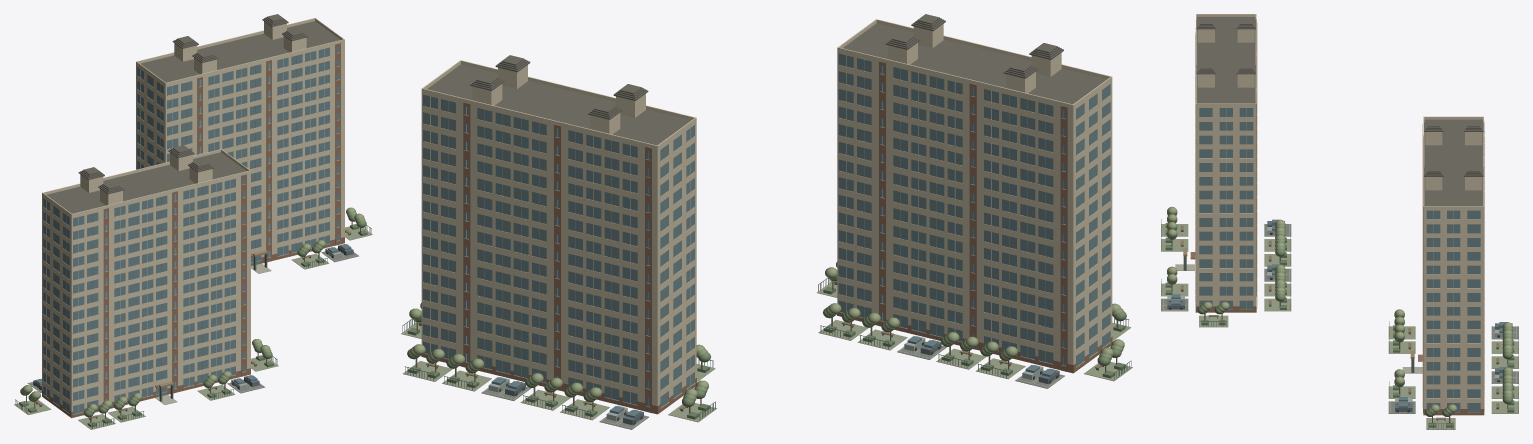
File: middle-1.glb
3 views of the same model, side by side, from view 1: azimuth 30°, elevation 25°; view 2: azimuth 150°, elevation 25°; view 3: azimuth 270°, elevation 25° (orthographic). The views are drawn at different scales.
Parts seen in each view (by area): view 1: korean-facade-surface-d5c9af, korean-facade-surface-728d91, korean-facade-parts-d5c9af, middle-1, korean-facade-parts-9b7860, korean-facade-parts-716e64, korean-facade-parts-9ba48a, korean-facade-parts-94a17c, korean-facade-parts-778b69, korean-facade-parts-718669, korean-facade-parts-889976, korean-facade-parts-627568 (+1 smaller); view 2: korean-facade-surface-d5c9af, korean-facade-surface-728d91, korean-facade-parts-d5c9af, middle-1, korean-facade-parts-9b7860, korean-facade-parts-9ba48a, korean-facade-parts-716e64, korean-facade-parts-94a17c, korean-facade-parts-718669, korean-facade-parts-778b69, korean-facade-parts-627568, korean-facade-parts-889976 (+2 smaller); view 3: korean-facade-surface-d5c9af, korean-facade-surface-728d91, middle-1, korean-facade-parts-d5c9af, korean-facade-parts-9ba48a, korean-facade-parts-94a17c, korean-facade-parts-716e64, korean-facade-parts-9b7860, korean-facade-parts-858b82, korean-facade-parts-889976, korean-facade-parts-718669, korean-facade-parts-778b69 (+5 smaller).
Part boxes in pixels (left/top/right/bottom): korean-facade-surface-d5c9af: left=42, top=42, right=344, bottom=411; korean-facade-surface-728d91: left=43, top=46, right=339, bottom=414; korean-facade-parts-d5c9af: left=42, top=18, right=344, bottom=414; middle-1: left=46, top=21, right=340, bottom=213; korean-facade-parts-9b7860: left=42, top=43, right=344, bottom=418; korean-facade-parts-716e64: left=78, top=14, right=308, bottom=194; korean-facade-parts-9ba48a: left=14, top=226, right=372, bottom=429; korean-facade-parts-94a17c: left=22, top=207, right=364, bottom=411; korean-facade-parts-778b69: left=20, top=215, right=366, bottom=417; korean-facade-parts-718669: left=19, top=224, right=367, bottom=427; korean-facade-parts-889976: left=21, top=212, right=365, bottom=413; korean-facade-parts-627568: left=15, top=225, right=371, bottom=428; korean-facade-surface-d5c9af: left=421, top=51, right=1112, bottom=405; korean-facade-surface-728d91: left=423, top=53, right=1110, bottom=407; korean-facade-parts-d5c9af: left=421, top=19, right=1112, bottom=408; middle-1: left=427, top=23, right=1106, bottom=364; korean-facade-parts-9b7860: left=421, top=61, right=1112, bottom=414; korean-facade-parts-9ba48a: left=401, top=281, right=1132, bottom=422; korean-facade-parts-716e64: left=470, top=14, right=1063, bottom=119; korean-facade-parts-94a17c: left=409, top=262, right=1124, bottom=398; korean-facade-parts-718669: left=407, top=281, right=1125, bottom=419; korean-facade-parts-778b69: left=407, top=279, right=1126, bottom=407; korean-facade-parts-627568: left=402, top=278, right=1131, bottom=420; korean-facade-parts-889976: left=410, top=275, right=1123, bottom=401; korean-facade-surface-d5c9af: left=1196, top=106, right=1483, bottom=408; korean-facade-surface-728d91: left=1199, top=108, right=1480, bottom=411; middle-1: left=1196, top=17, right=1483, bottom=205; korean-facade-parts-d5c9af: left=1195, top=14, right=1484, bottom=412; korean-facade-parts-9ba48a: left=1161, top=224, right=1518, bottom=429; korean-facade-parts-94a17c: left=1167, top=206, right=1512, bottom=412; korean-facade-parts-716e64: left=1196, top=18, right=1483, bottom=176; korean-facade-parts-9b7860: left=1190, top=19, right=1484, bottom=415; korean-facade-parts-858b82: left=1161, top=224, right=1518, bottom=413; korean-facade-parts-889976: left=1167, top=212, right=1512, bottom=414; korean-facade-parts-718669: left=1165, top=223, right=1514, bottom=427; korean-facade-parts-778b69: left=1167, top=213, right=1512, bottom=416.
Bounding box in the file's own units: 104 × 48.93 × 70.8.
